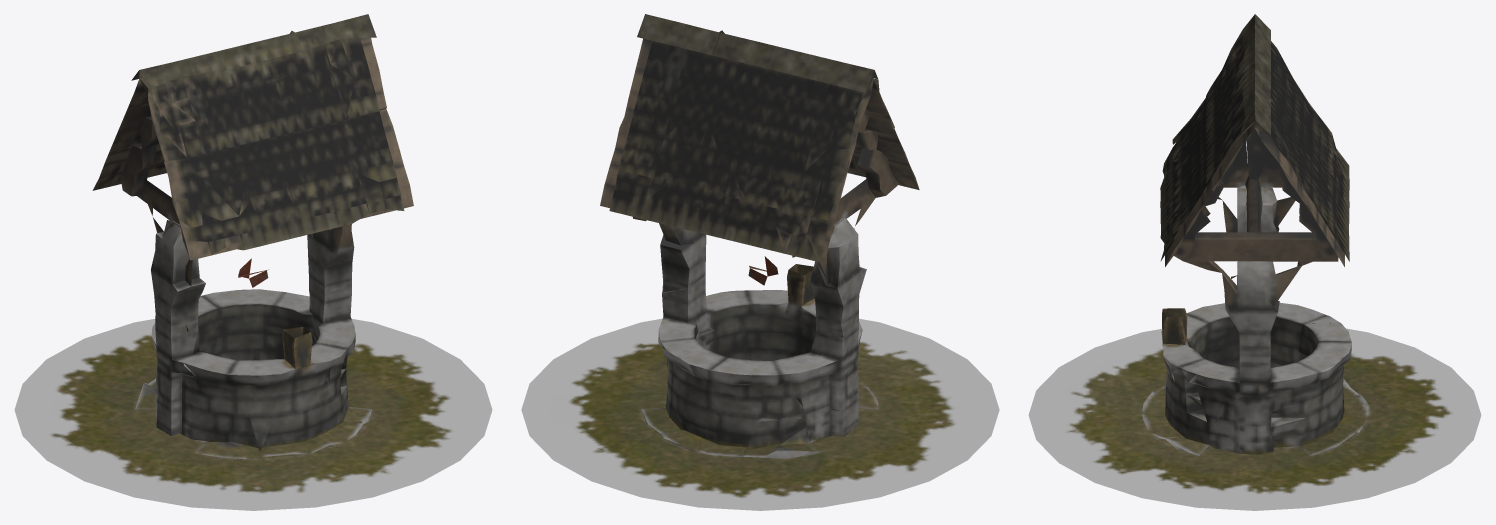
Rendered from haunted_well.glb.
The picture shows the model from 3 angles, left to right: view 1: azimuth 30°, elevation 25°; view 2: azimuth 150°, elevation 25°; view 3: azimuth 270°, elevation 25°; orthographic projection. The views are drawn at different scales.
Parts seen in each view (by area): view 1: mesh; view 2: mesh; view 3: mesh.
Boxes of the visible parts, bbox=[...] form: mesh: bbox=[14, 14, 492, 510]; mesh: bbox=[521, 14, 999, 510]; mesh: bbox=[1028, 14, 1481, 510].
Bounding box in the file's own units: 1.6 × 1.37 × 1.6.
1 material, 1 textured.
